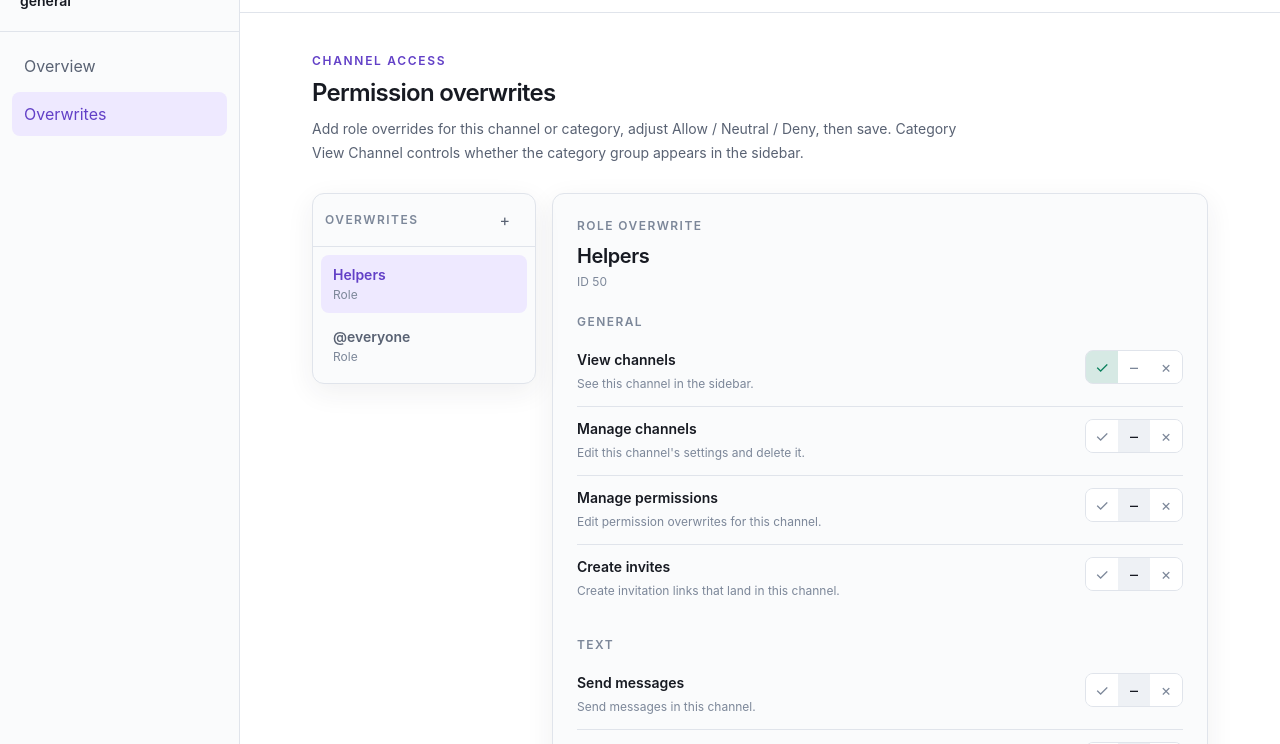
Test: ChannelSettingsPage › deletes a non-default overwrite after confirmation
Click the button "Helpers role" at (424, 284), box top-left (321, 255), bottom-right (527, 313)
(page scrolled)
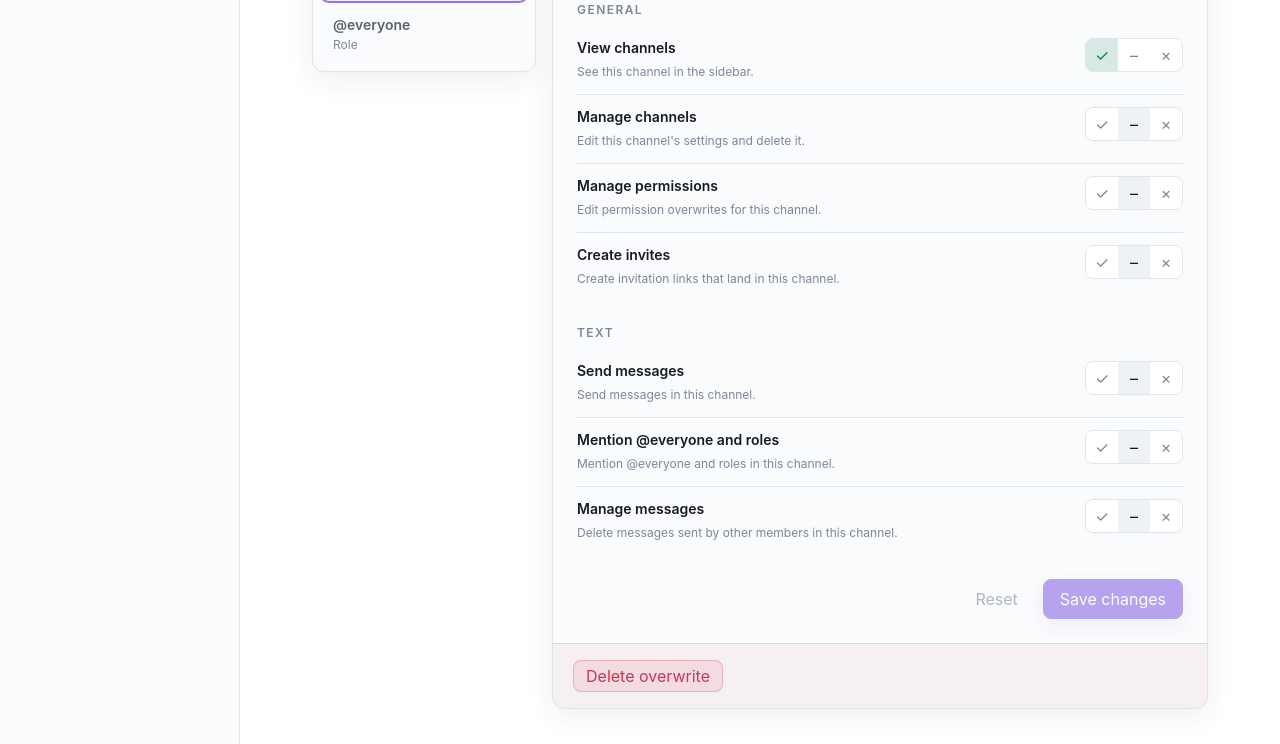
Click the button "Delete overwrite" at (648, 676), box top-left (573, 660), bottom-right (723, 692)
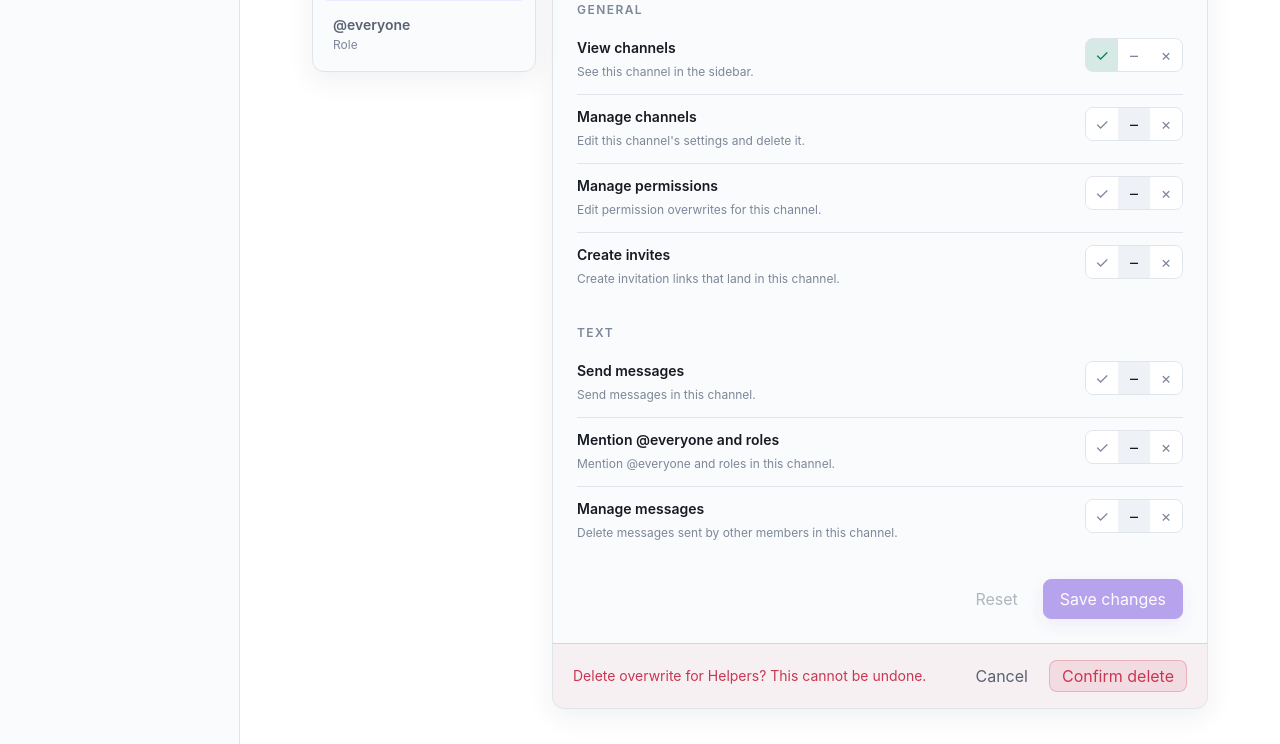
Click the button "Confirm delete" at (1118, 676), box top-left (1049, 660), bottom-right (1187, 692)
(page scrolled)
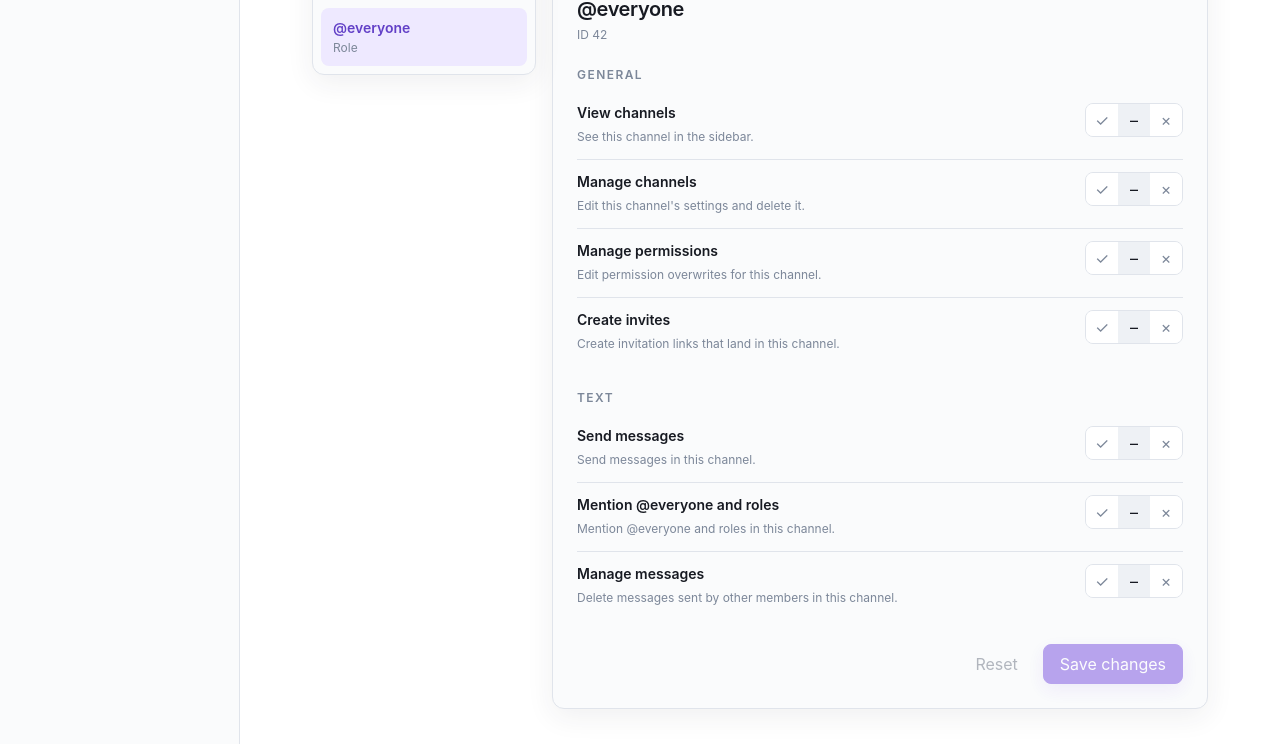
Expected: the text "Delete overwrite" is gone
